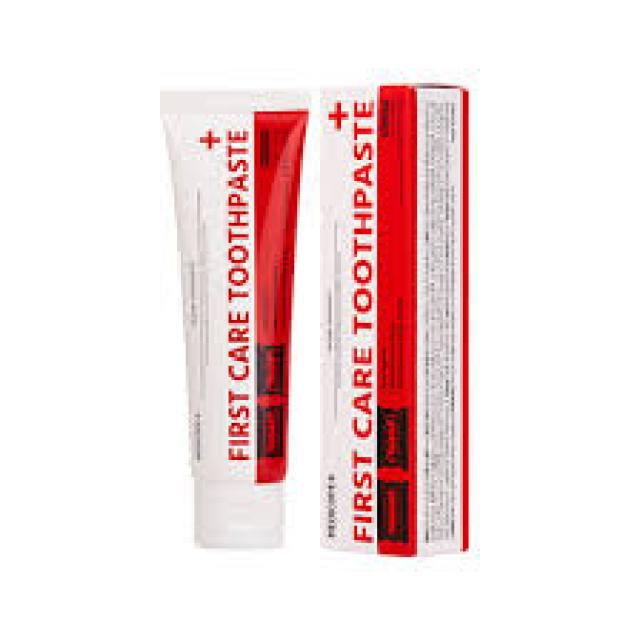toothpaste: (147, 81, 306, 566)
